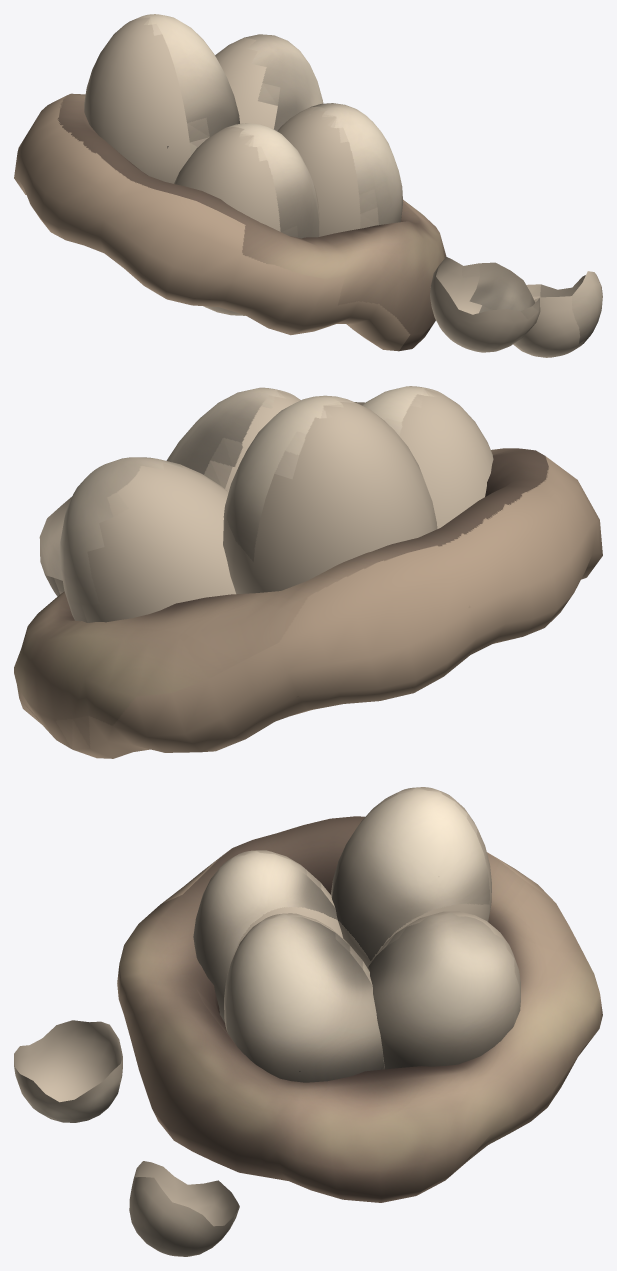
Rendered from EggNest.glb.
3 renders of one model, top to bottom at view 1: azimuth 30°, elevation 25°; view 2: azimuth 150°, elevation 25°; view 3: azimuth 270°, elevation 25°, orthographic. The views are drawn at different scales.
Visible parts, largest first — view 1: Eggs, EggNest; view 2: EggNest, Eggs; view 3: Eggs, EggNest.
Boxes of the visible parts, left/top/right/bottom form: Eggs: left=84, top=14, right=602, bottom=357; EggNest: left=14, top=93, right=446, bottom=351; EggNest: left=14, top=448, right=602, bottom=758; Eggs: left=39, top=386, right=493, bottom=622; Eggs: left=14, top=787, right=520, bottom=1256; EggNest: left=117, top=816, right=602, bottom=1202.
Size of the model in its own units: 4.29 by 2.76 by 4.58.
Materials: 2 (2 with a texture image).
